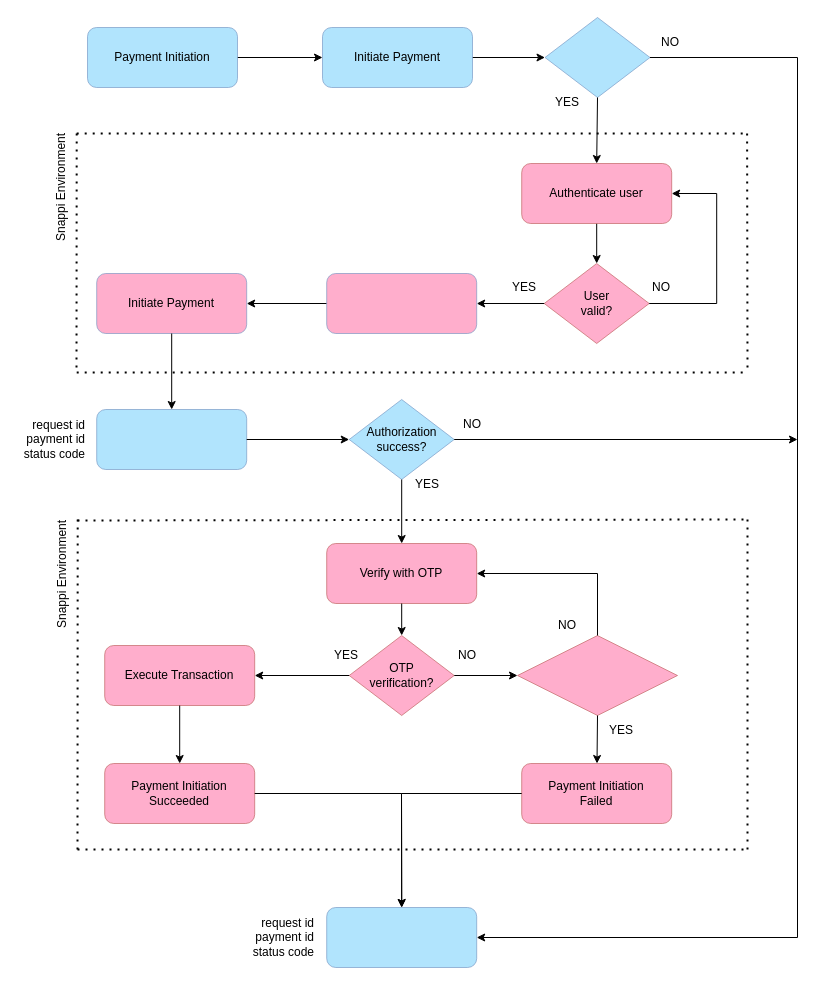
Some shapes in this 823 by 990 pixel diagram are drawn without their labels. The box of each missing label's shape, as (x1, y1, x2, y2) in pixels:
Choose account: (326, 272, 477, 334)
Max number of tries reached?: (516, 634, 678, 716)
Payment Created?: (544, 16, 650, 98)
Redirect URI: (326, 906, 477, 968)
Start Authorization: (96, 408, 247, 470)
